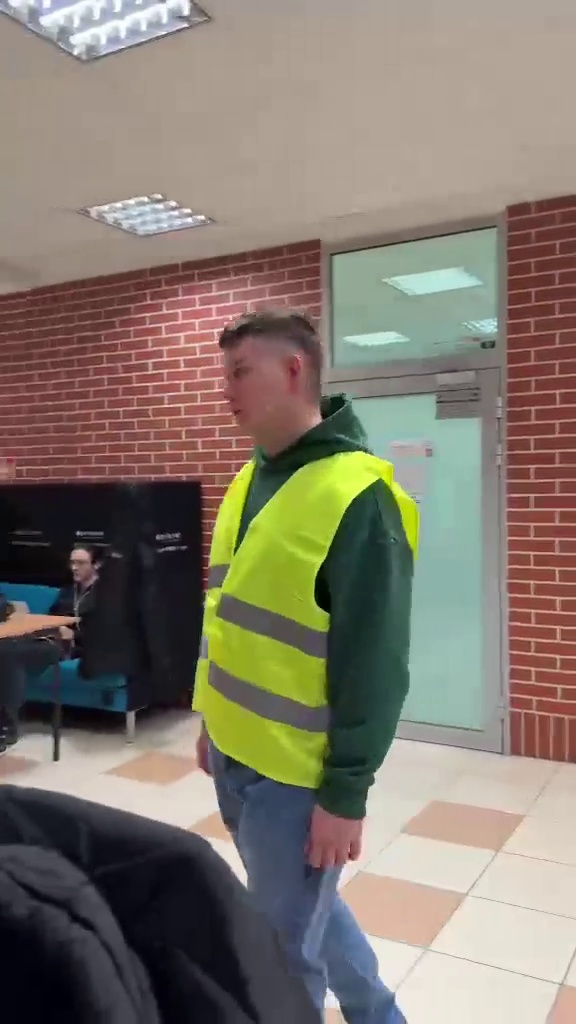vest: (193, 308, 423, 1023)
